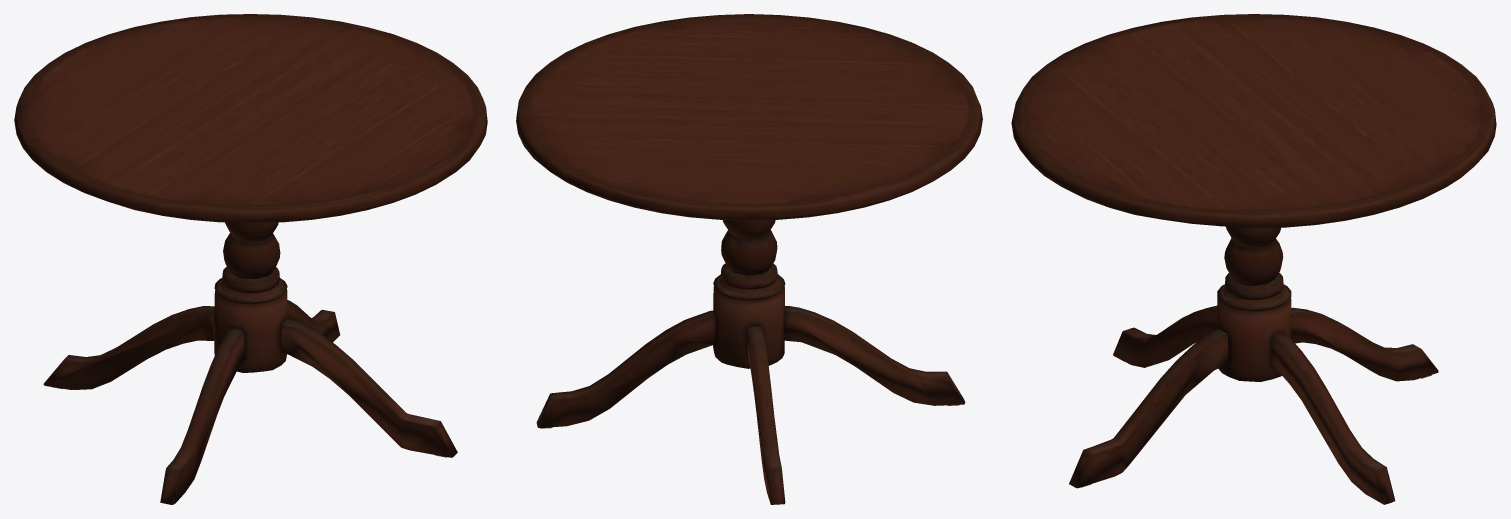
The model's file is round_wooden_table_01.glb.
3 views of the same model, side by side, from view 1: azimuth 30°, elevation 25°; view 2: azimuth 150°, elevation 25°; view 3: azimuth 270°, elevation 25° (orthographic). The views are drawn at different scales.
Parts seen in each view (by area): view 1: round_wooden_table_01; view 2: round_wooden_table_01; view 3: round_wooden_table_01.
Part boxes in pixels (x1,y1,x2,y2): round_wooden_table_01: [14, 14, 487, 504]; round_wooden_table_01: [516, 14, 982, 504]; round_wooden_table_01: [1011, 14, 1496, 504].
Size of the model in its own units: 1.4 by 1 by 1.4.
1 material, 1 textured.
